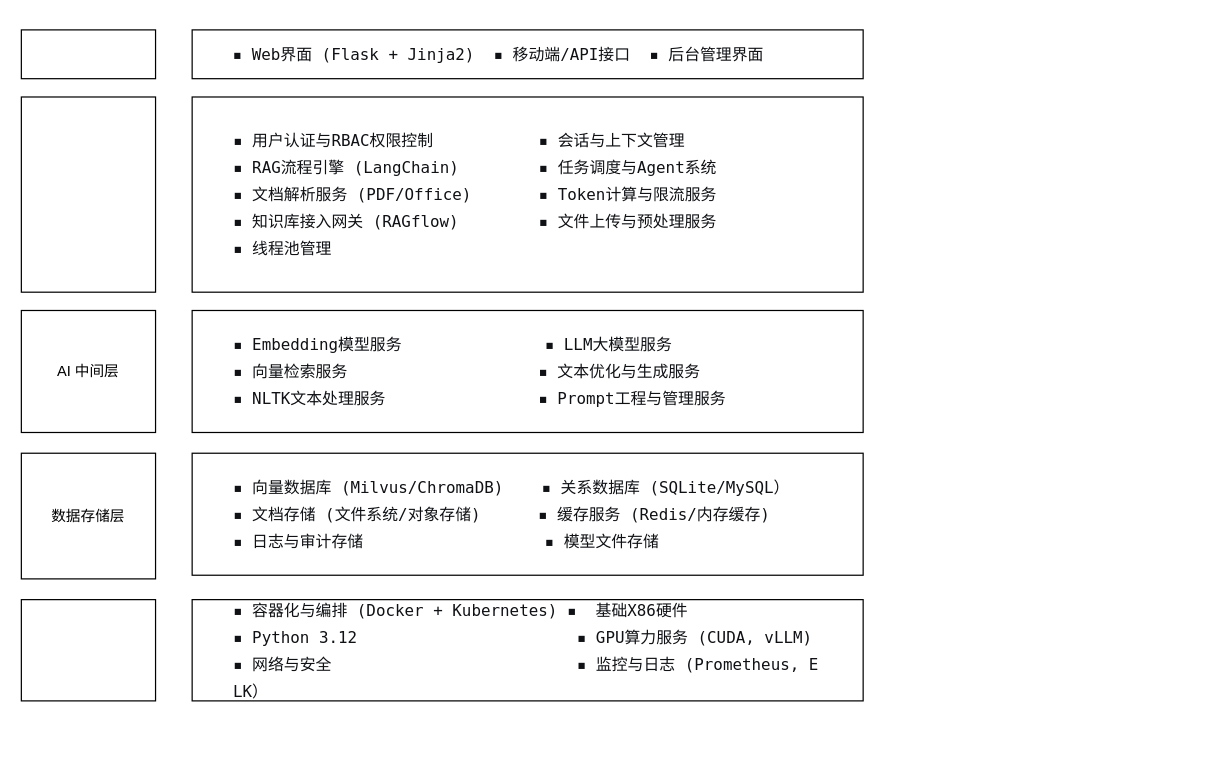
Image size: 1214x764. Some labels were removed from this diagram. The centre of each missing label's shape, as x and y in pixels:
"基础设施层" belongs at point (88, 649).
"应用层" belongs at point (88, 54).
"服务层" belongs at point (88, 194).
